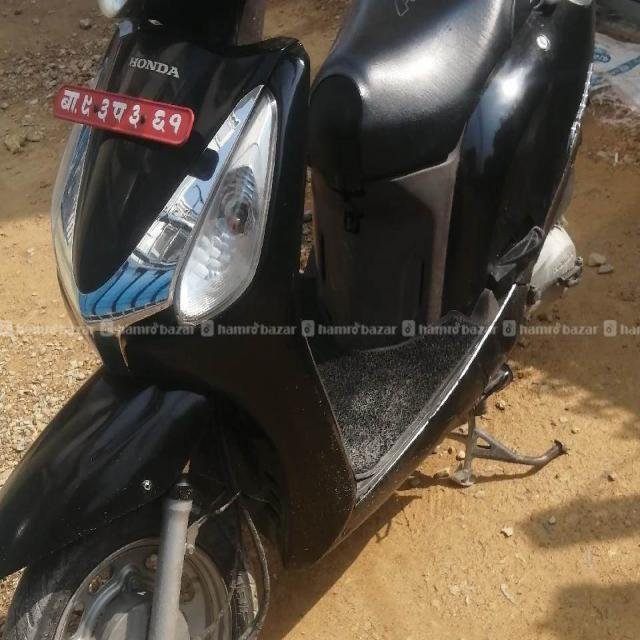License-plate: (55, 82, 193, 150)
